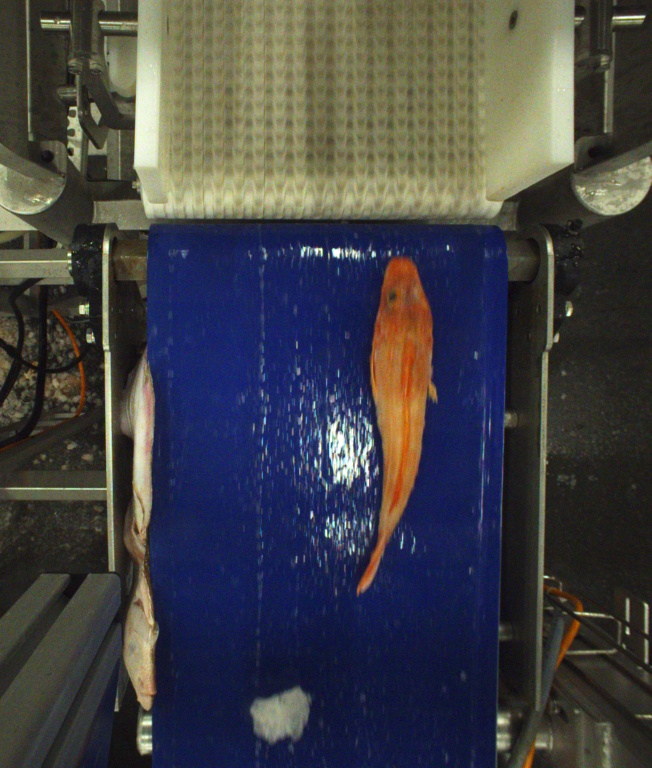GUU: (357, 258, 436, 596)
